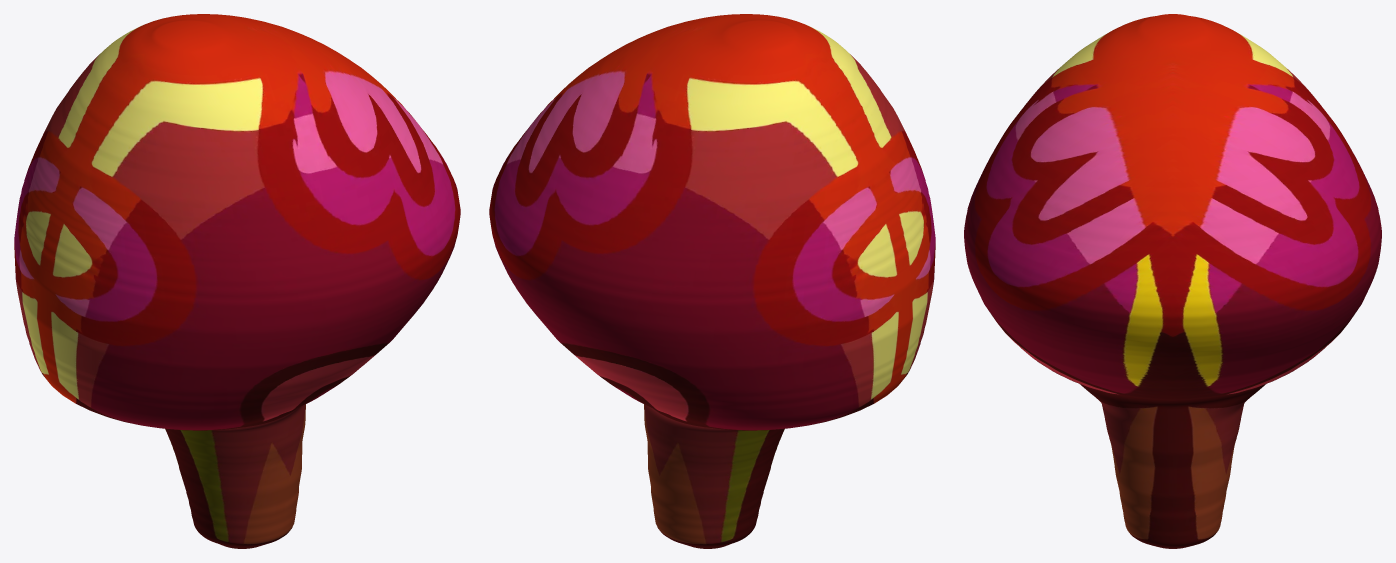
Rendered from spotted_mushroom.glb.
The picture shows the model from 3 angles, left to right: view 1: azimuth 30°, elevation 25°; view 2: azimuth 150°, elevation 25°; view 3: azimuth 270°, elevation 25°; orthographic projection. The views are drawn at different scales.
Parts seen in each view (by area): view 1: spotted_mushroom; view 2: spotted_mushroom; view 3: spotted_mushroom.
Part boxes in pixels (left/top/right/bottom): spotted_mushroom: left=14, top=14, right=460, bottom=548; spotted_mushroom: left=489, top=14, right=935, bottom=548; spotted_mushroom: left=964, top=14, right=1381, bottom=548.
Bounding box in the file's own units: 1 × 1.28 × 0.9909.
1 material, 1 textured.
